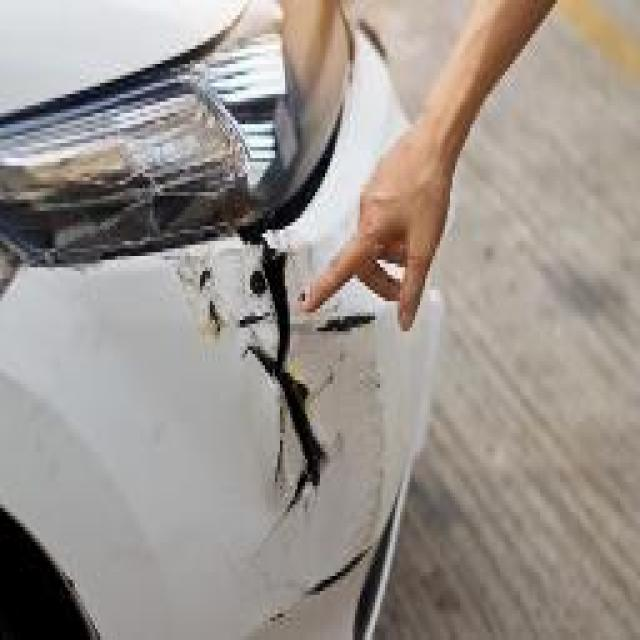Bumper: (168, 218, 400, 614)
